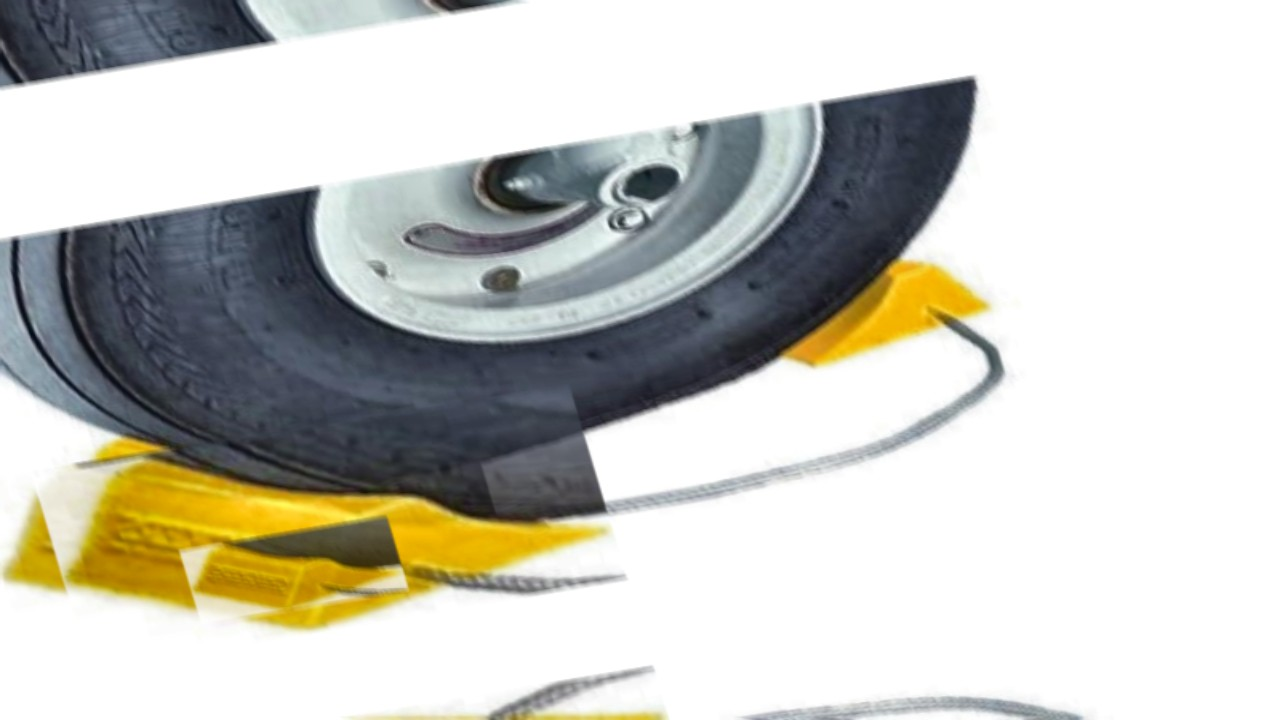chock: (32, 386, 627, 669), (0, 400, 514, 658), (47, 389, 446, 579), (722, 237, 1001, 378), (179, 517, 409, 625)
wheel: (0, 79, 1066, 546)
